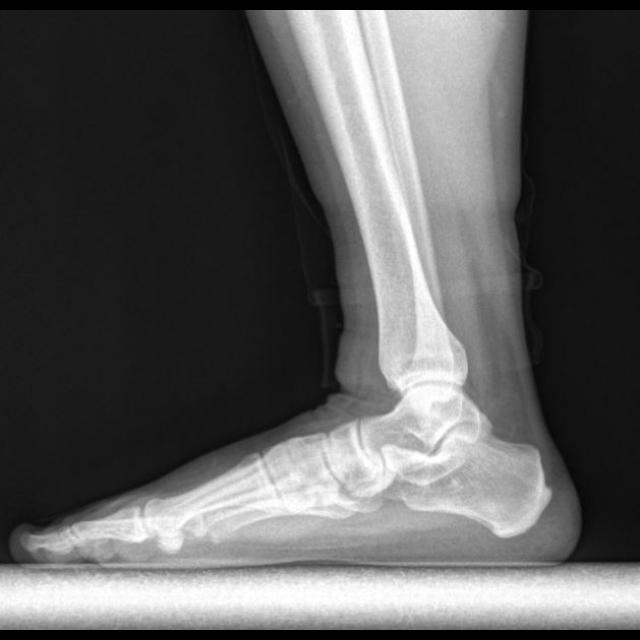a: (384, 434, 551, 537)
b: (322, 419, 384, 500)
c: (142, 453, 285, 556)
